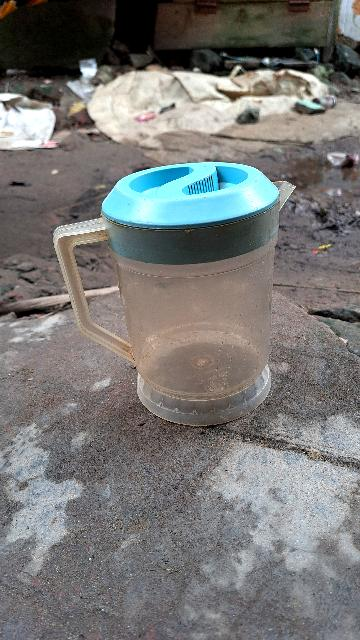hardplastic: (102, 164, 296, 422)
